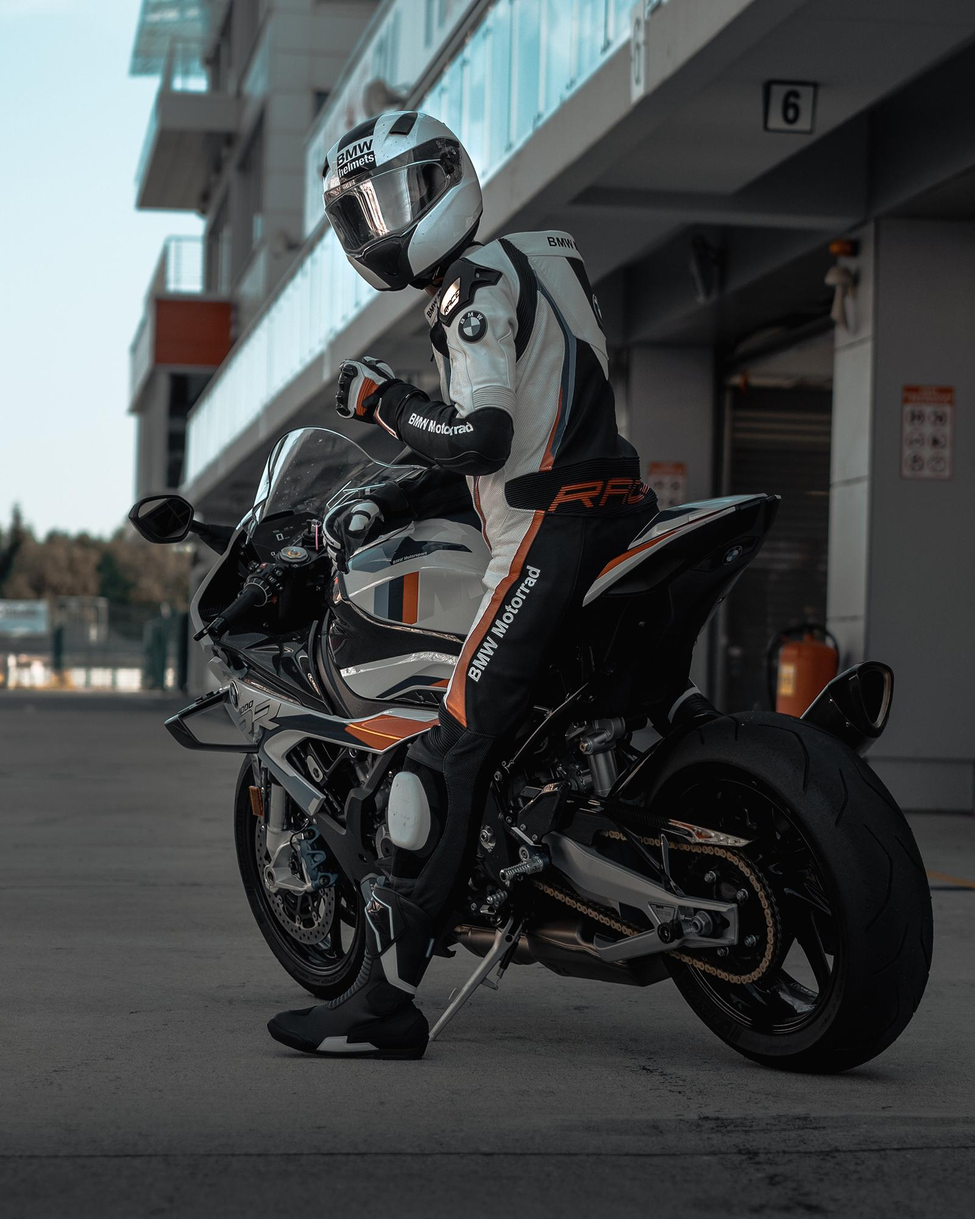helmet: (321, 110, 484, 293)
